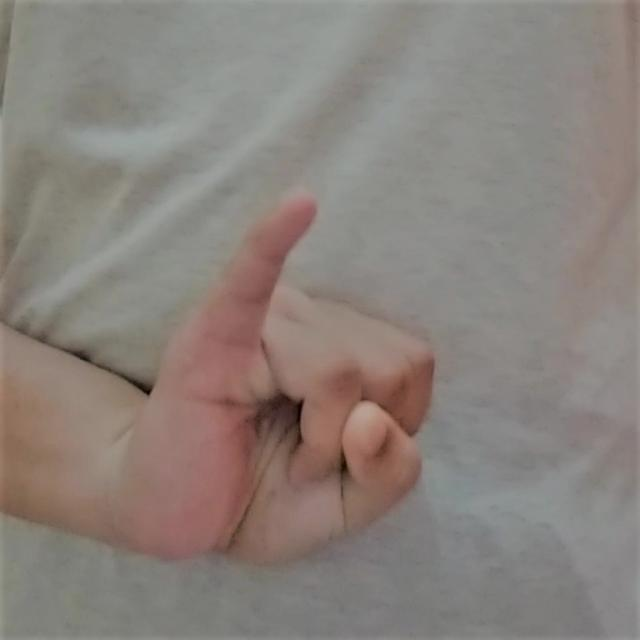I: (103, 185, 450, 576)
